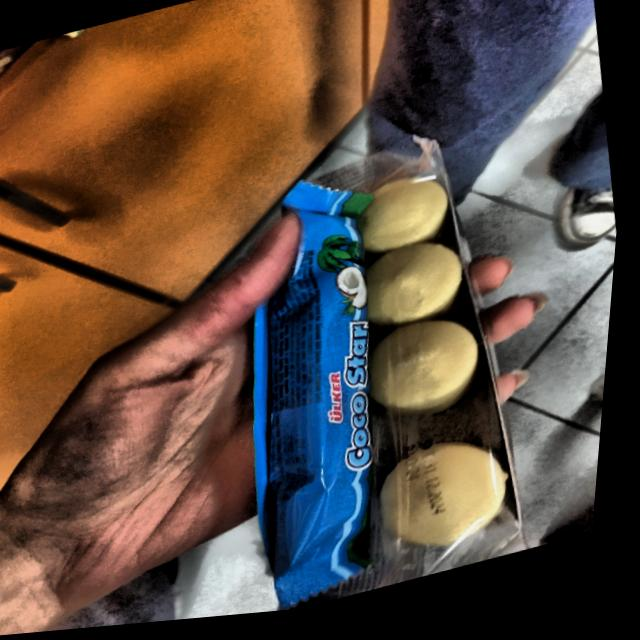Plastic: (182, 160, 466, 624), (315, 124, 516, 592)
